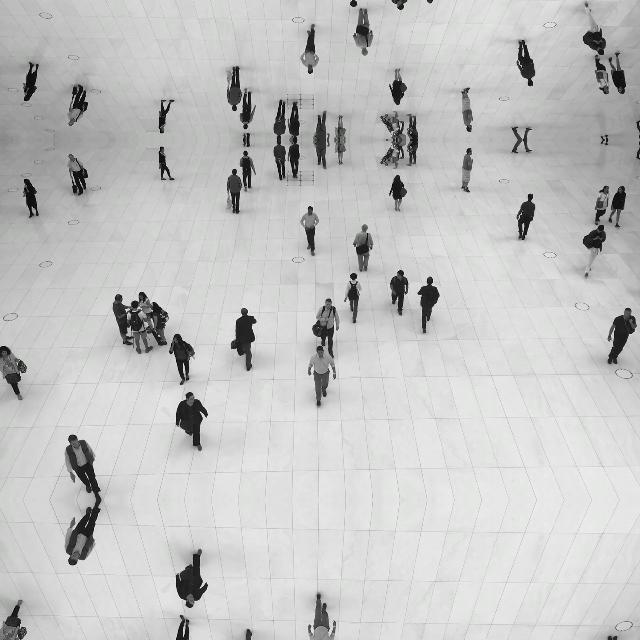person: (65, 434, 102, 500), (65, 500, 102, 566), (176, 392, 208, 452), (176, 548, 208, 608), (606, 307, 638, 365), (230, 308, 258, 372), (308, 346, 337, 406), (312, 298, 340, 358), (0, 345, 28, 401), (126, 301, 154, 355), (168, 334, 196, 386), (307, 593, 336, 640), (582, 2, 606, 56), (418, 276, 440, 334), (582, 225, 606, 278), (0, 599, 28, 640), (112, 294, 134, 346), (352, 224, 374, 272), (352, 8, 374, 56), (300, 206, 320, 256), (300, 24, 320, 74), (516, 193, 536, 241), (516, 39, 536, 87), (344, 272, 362, 324), (389, 270, 409, 316), (149, 302, 169, 346), (68, 154, 88, 196), (608, 186, 628, 228), (68, 84, 88, 126), (608, 52, 628, 94), (388, 174, 408, 212), (388, 68, 408, 105), (226, 168, 242, 214), (226, 66, 242, 112), (168, 614, 195, 640), (240, 150, 256, 192), (594, 184, 610, 226), (138, 292, 154, 334), (240, 88, 256, 130), (594, 54, 610, 96), (158, 146, 176, 182), (158, 98, 176, 134), (22, 178, 38, 218), (22, 62, 38, 102), (462, 148, 474, 192), (462, 88, 474, 132), (274, 140, 286, 180), (288, 140, 300, 180), (274, 100, 286, 140), (288, 100, 300, 140), (314, 140, 331, 168), (314, 112, 331, 140), (406, 140, 419, 167), (230, 627, 257, 640), (406, 114, 419, 140), (389, 140, 401, 168), (389, 112, 401, 140), (511, 140, 533, 154), (511, 126, 533, 140), (334, 140, 346, 164), (334, 116, 346, 140), (389, 0, 409, 10), (398, 140, 407, 160), (398, 120, 407, 140), (606, 635, 638, 640), (344, 0, 362, 8), (417, 0, 440, 4), (636, 140, 640, 160), (636, 120, 640, 140), (242, 140, 250, 148), (242, 132, 250, 140), (600, 140, 608, 146), (600, 134, 608, 140)
